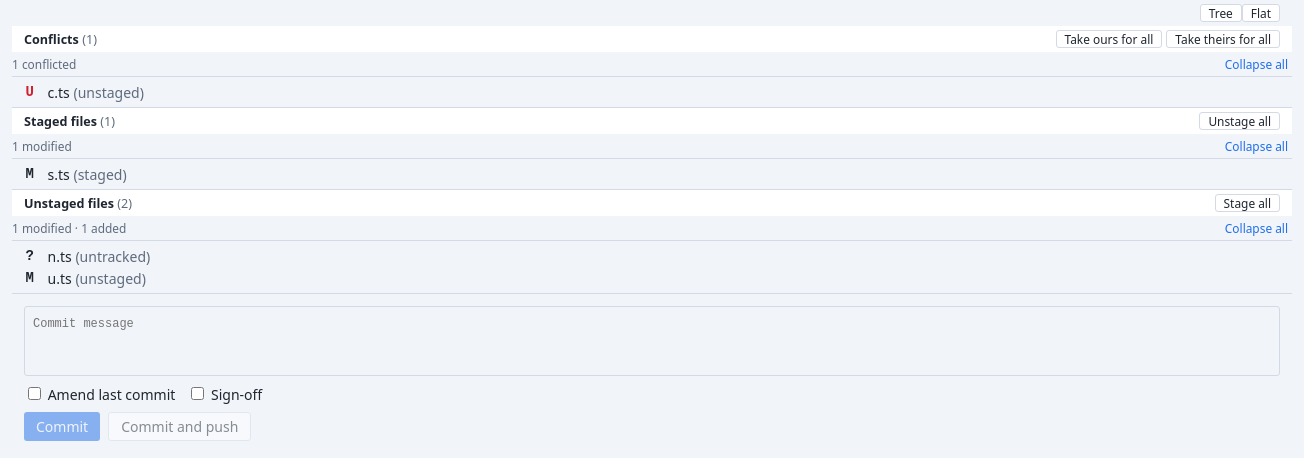
Scenario: WipPane › commit form gating and disabled Commit and push
Expected: the button "Commit" is disabled, [24,412,100,441]
Type "msg" into the text box with placeholder "Commit message" at {"x": 652, "y": 341}, box [24,306,1280,376]
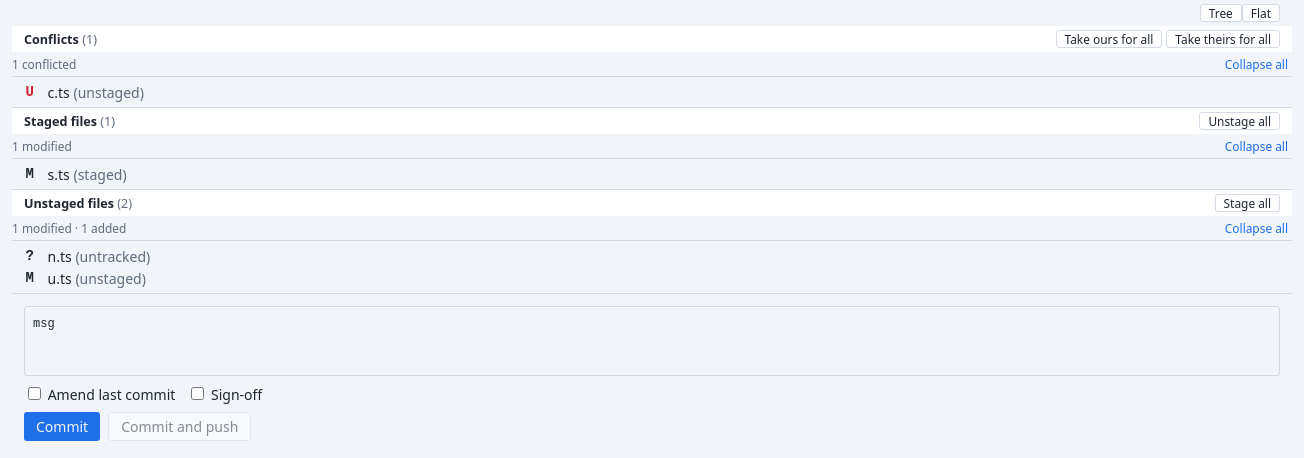
Expected: the button "Commit and push" is disabled, [108,412,251,441]
Result: the button "Commit" is enabled at [24,412,100,441]
